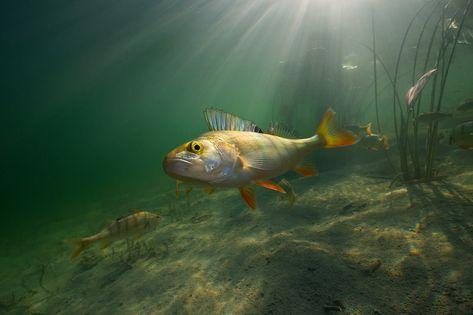fish: (162, 105, 361, 209), (64, 209, 162, 260), (406, 66, 442, 110), (413, 112, 454, 122), (362, 134, 386, 151), (343, 122, 371, 135)
